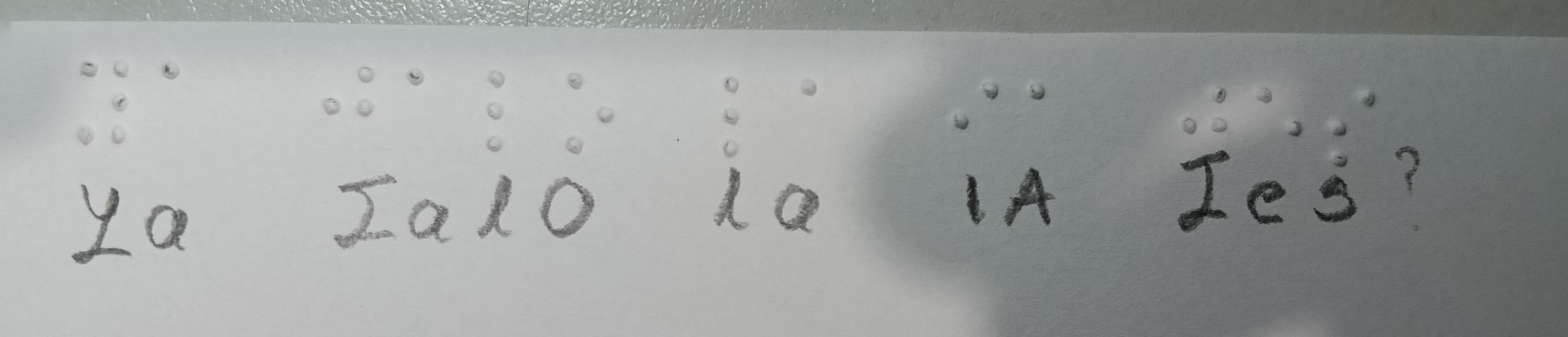a: (1015, 69, 1065, 127), (782, 65, 836, 117), (144, 50, 190, 94), (398, 59, 434, 100)
e: (1255, 67, 1313, 150)
i: (932, 63, 1009, 153)
j: (292, 31, 394, 155), (1159, 65, 1244, 146)
l: (705, 63, 771, 171), (473, 59, 523, 171)
o: (548, 63, 638, 161)
s: (1319, 73, 1384, 176)
y: (73, 46, 138, 167)
